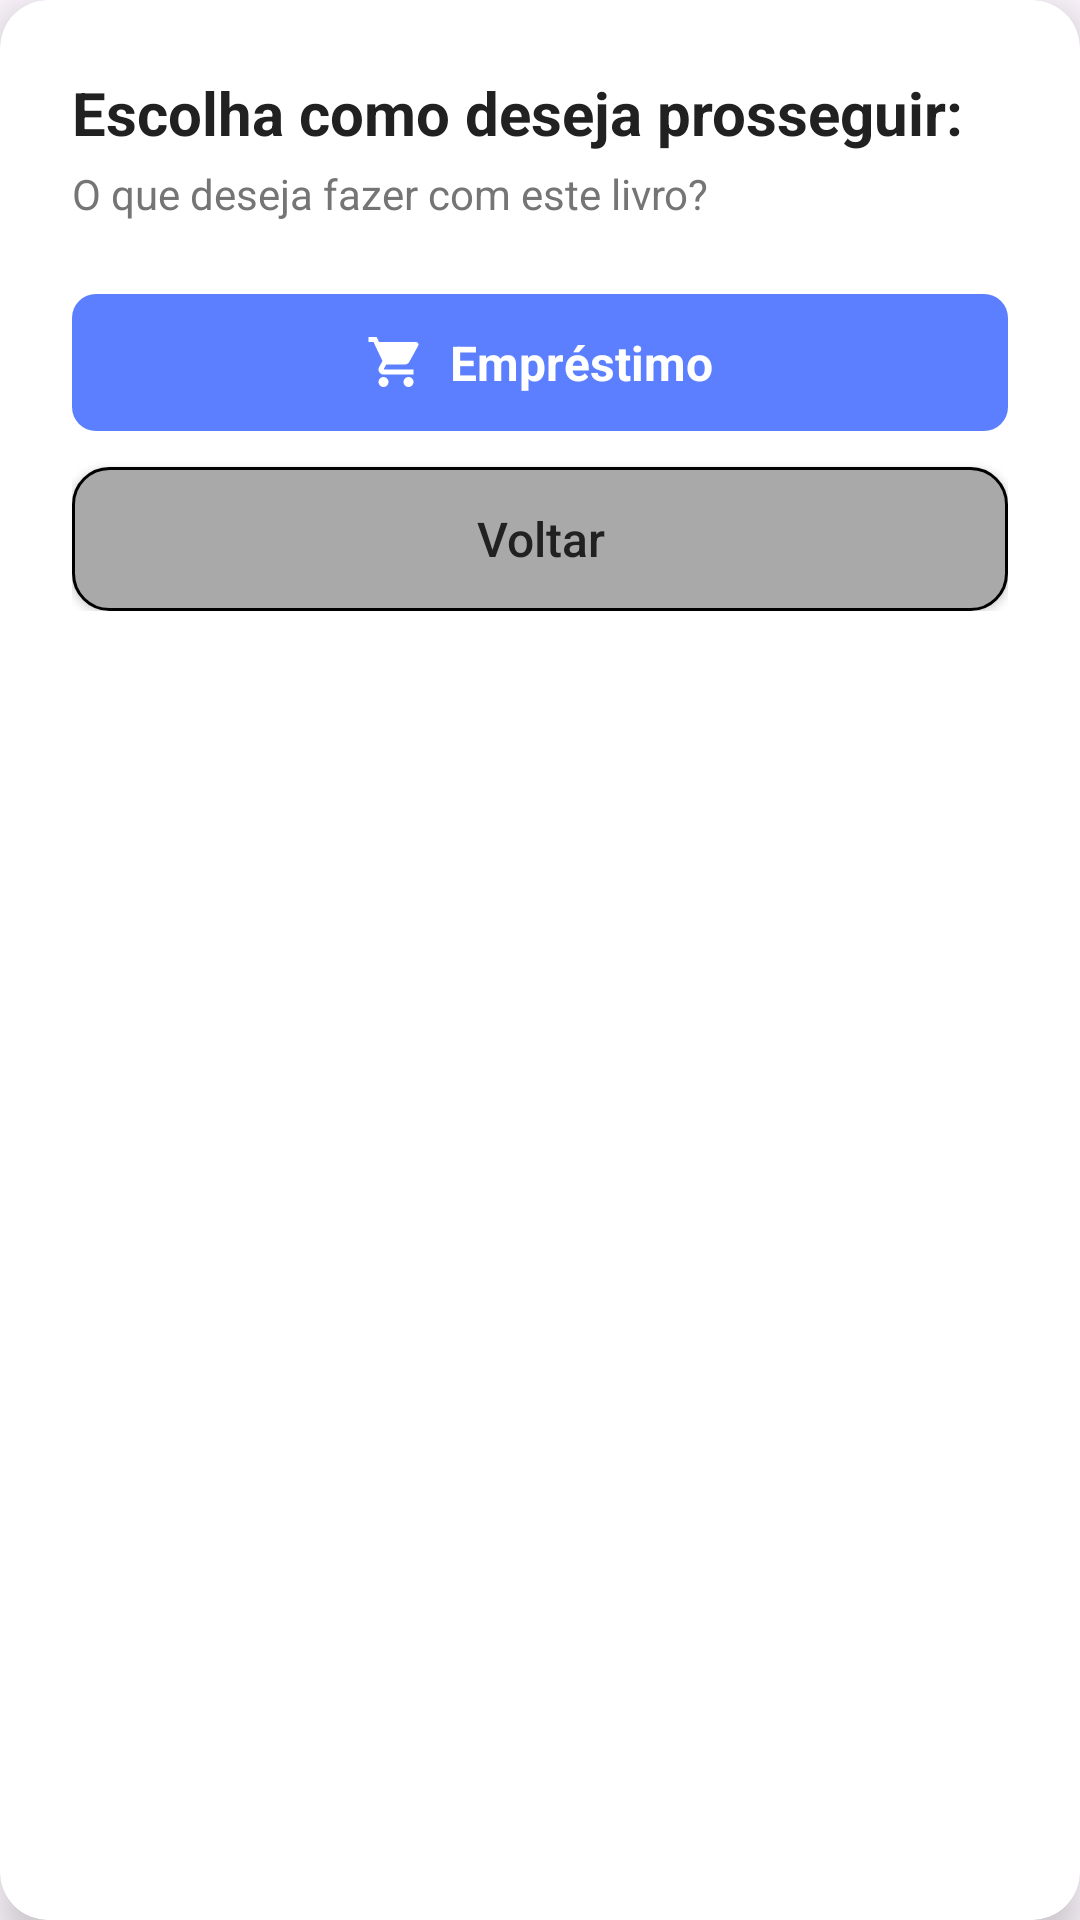

Named icons in this screenshot (1080px×1920px) and their centers, [x,y]:
shopping cart: [393,362]
